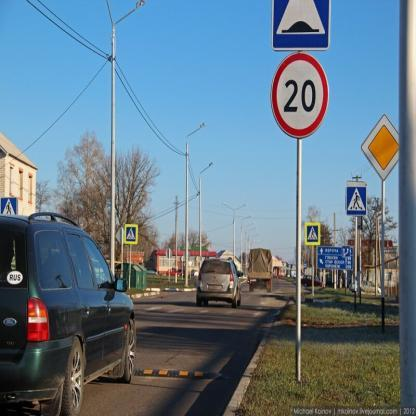road_sign: (271, 54, 328, 137), (269, 0, 331, 49), (362, 115, 399, 180), (345, 186, 366, 216), (0, 196, 18, 218), (306, 221, 320, 244), (124, 223, 138, 245)
